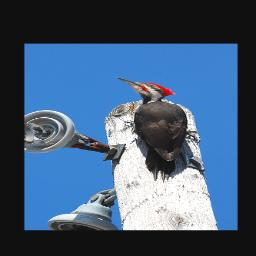Woodpecker: (111, 76, 205, 181)
